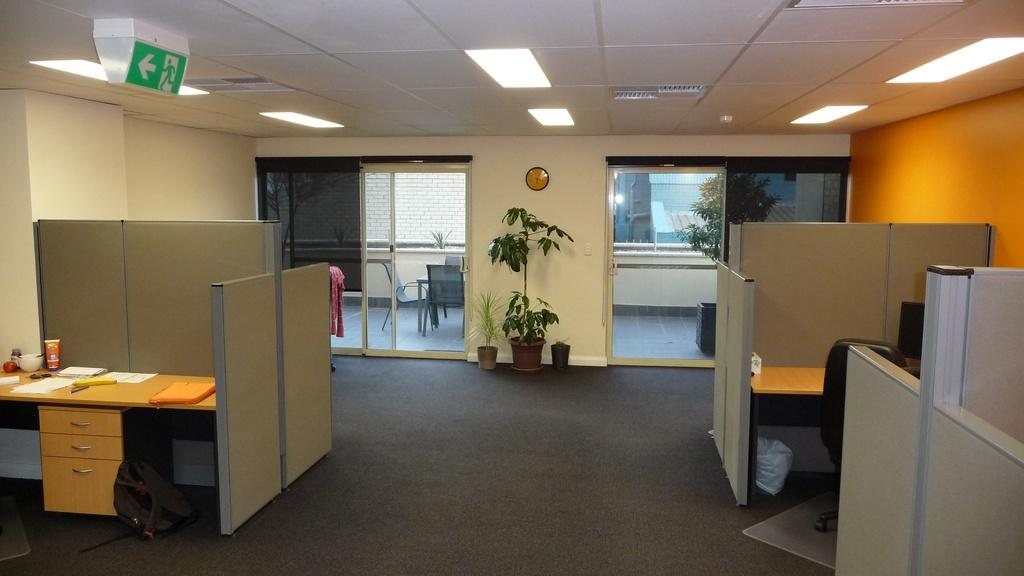Book: (148, 380, 215, 405)
